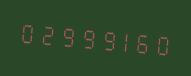nine: (93, 19, 111, 57), (55, 16, 73, 53), (74, 18, 92, 55)
one: (112, 21, 130, 58)
six: (131, 23, 149, 60)
two: (36, 14, 54, 52)
zero: (150, 24, 168, 62), (17, 13, 35, 50)
